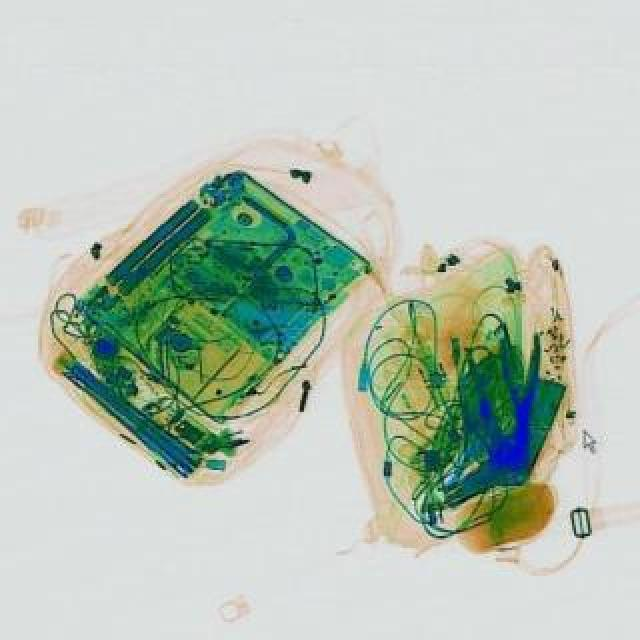wrench: (496, 334, 544, 452)
